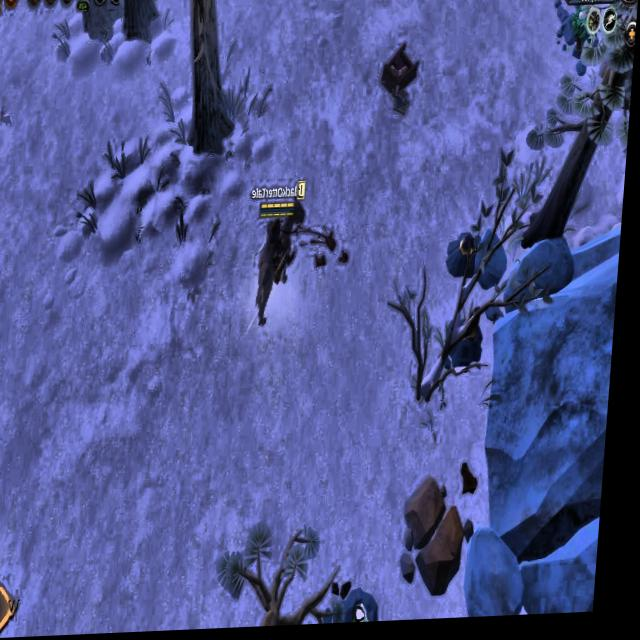copperore: (443, 312, 494, 383), (441, 231, 486, 282)
limestone: (406, 479, 478, 599)
